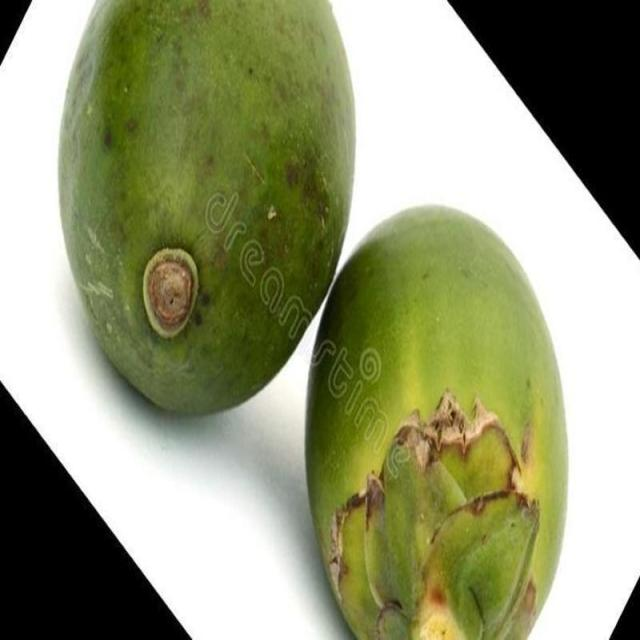good: (56, 0, 356, 420), (303, 206, 571, 639)
